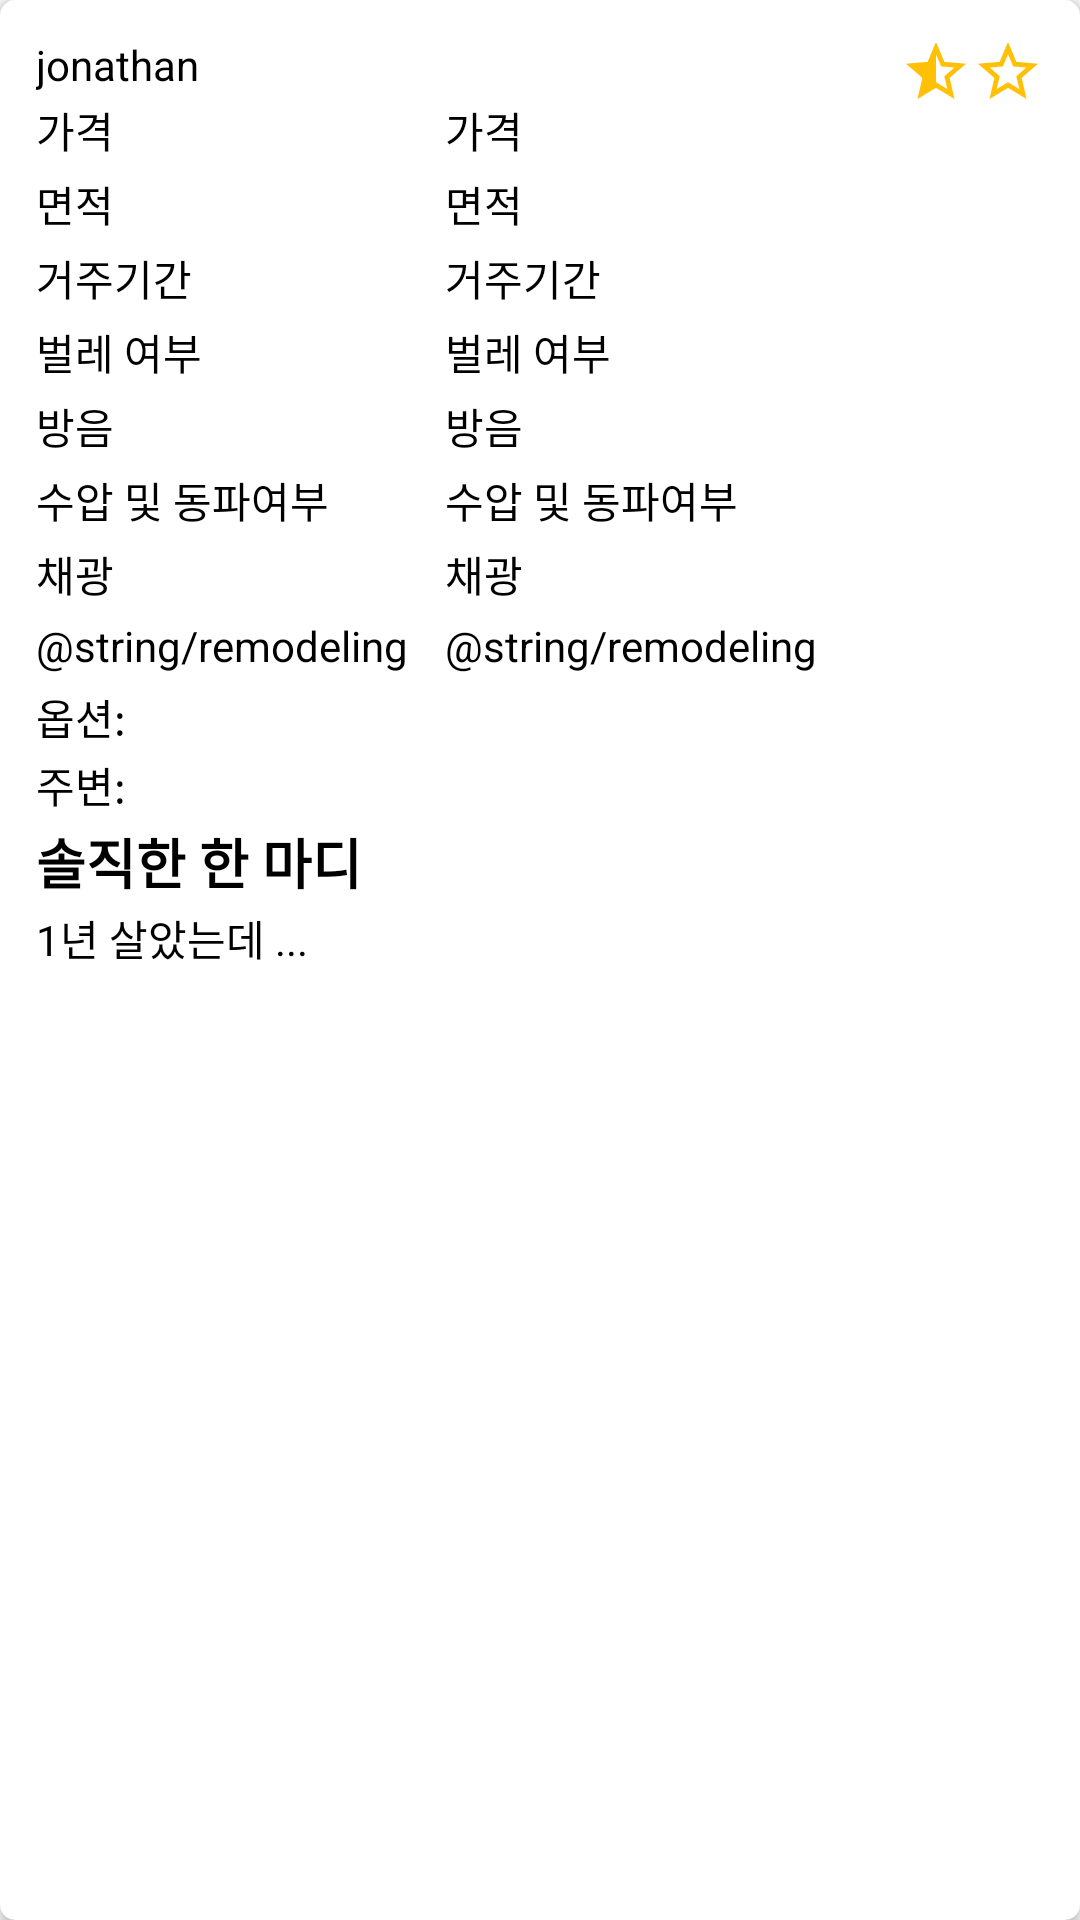

Where to tap for icons on this 1080w x 1920h app screen, as (x,y):
star border: (1008,70)
star half: (936,70)
